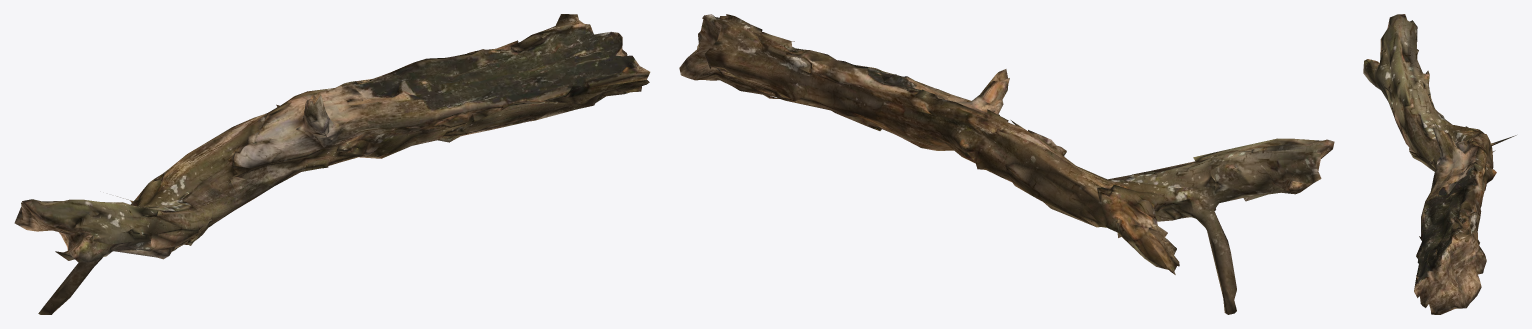
Rendered from dead_tree_trunk_02.glb.
3 views of the same model, side by side, from view 1: azimuth 30°, elevation 25°; view 2: azimuth 150°, elevation 25°; view 3: azimuth 270°, elevation 25° (orthographic). The views are drawn at different scales.
Visible parts, largest first — view 1: dead_tree_trunk_02; view 2: dead_tree_trunk_02; view 3: dead_tree_trunk_02.
Part boxes in pixels (x1,y1,x2,y2): dead_tree_trunk_02: (14, 14, 650, 314); dead_tree_trunk_02: (679, 14, 1334, 314); dead_tree_trunk_02: (1363, 14, 1516, 314).
Size of the model in its own units: 4.05 by 1.05 by 1.04.
1 material, 1 textured.
